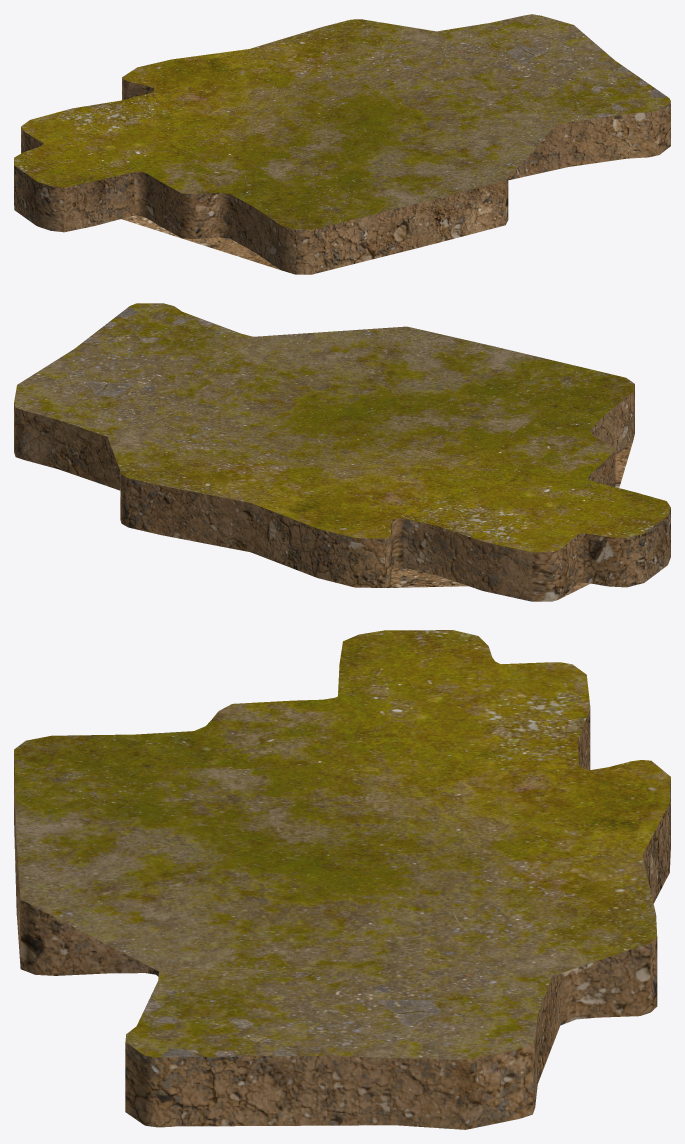
Rendered from loftedSurface1.fbx.
3 renders of one model, top to bottom at view 1: azimuth 30°, elevation 25°; view 2: azimuth 150°, elevation 25°; view 3: azimuth 270°, elevation 25°, orthographic. The views are drawn at different scales.
Parts seen in each view (by area): view 1: loftedSurface1; view 2: loftedSurface1; view 3: loftedSurface1.
Boxes of the visible parts, x1,y1,x2,y2 form: loftedSurface1: (14,14,670,274); loftedSurface1: (14,303,670,601); loftedSurface1: (14,630,670,1129).
Size of the model in its own units: 13.32 by 1.01 by 8.6.
